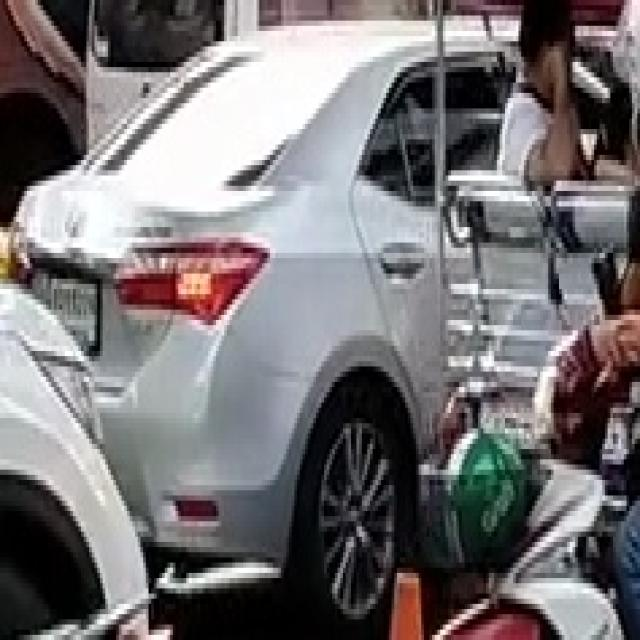door: (348, 52, 446, 459), (84, 0, 227, 155)
helmet: (440, 423, 527, 568)
tyre: (286, 366, 416, 630)
